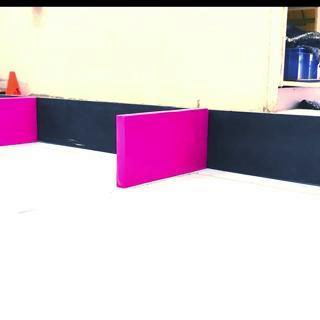xparking: (117, 110, 209, 178), (2, 98, 34, 144)
